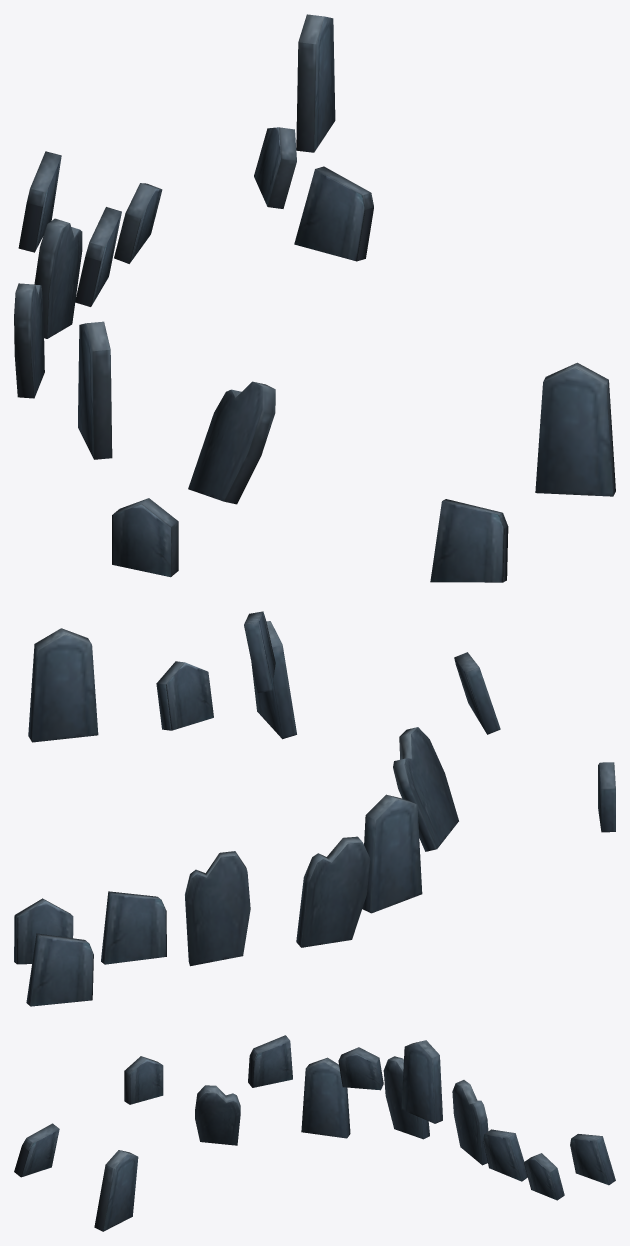
File: Area_11_10.fbx
The picture shows the model from 3 angles, top to bottom: view 1: azimuth 30°, elevation 25°; view 2: azimuth 150°, elevation 25°; view 3: azimuth 270°, elevation 25°; orthographic projection. The views are drawn at different scales.
Parts seen in each view (by area): view 1: Area_11_10; view 2: Area_11_10; view 3: Area_11_10.
Part boxes in pixels (<box>): Area_11_10: <box>14,14,615,582</box>; Area_11_10: <box>14,611,615,1006</box>; Area_11_10: <box>14,1035,615,1231</box>.
Bounding box in the file's own units: 1138 × 709 × 2112.
